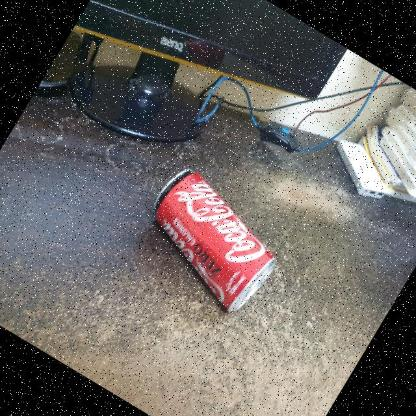Can: (151, 158, 282, 320)
